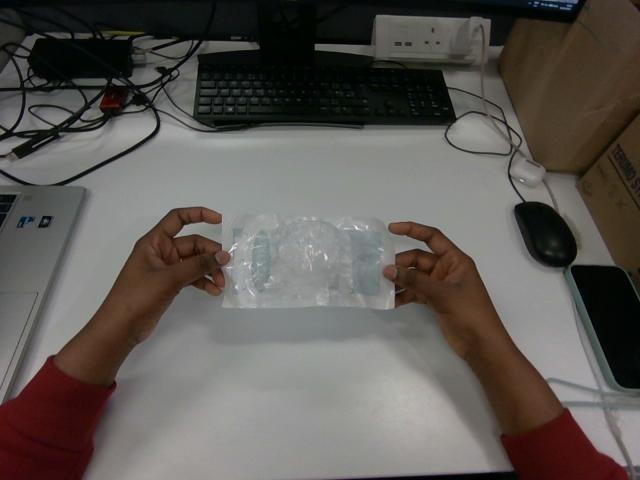gallipot: (222, 214, 394, 308)
